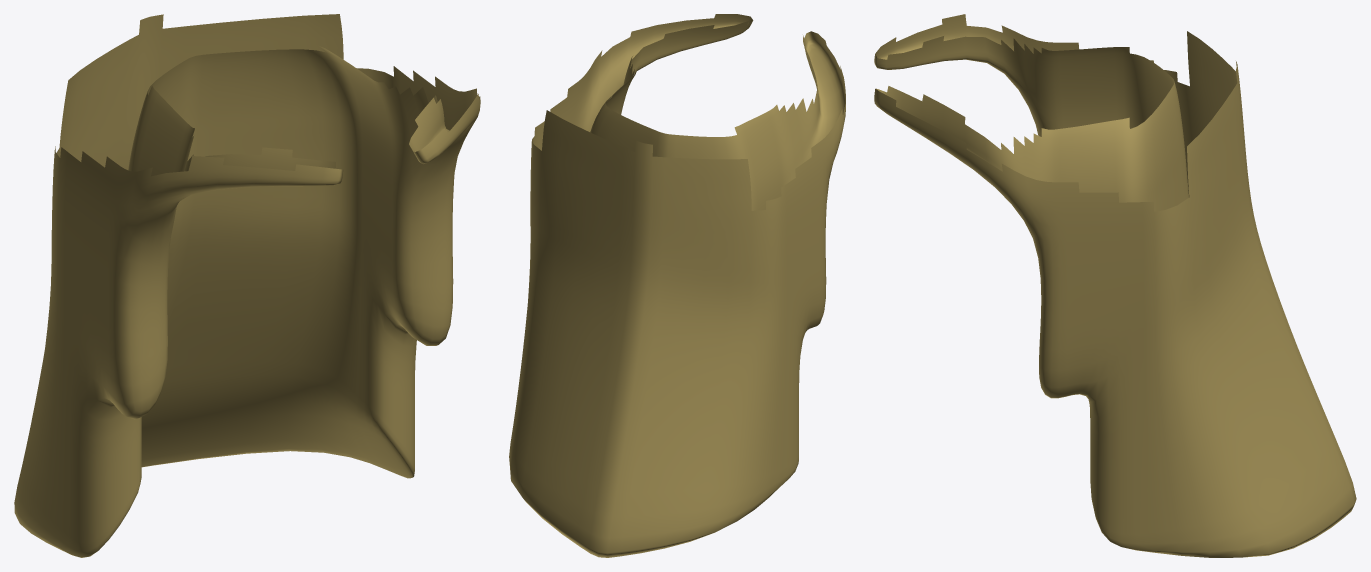
File: Female_Hair2.fbx
The picture shows the model from 3 angles, left to right: view 1: azimuth 30°, elevation 25°; view 2: azimuth 150°, elevation 25°; view 3: azimuth 270°, elevation 25°; orthographic projection. The views are drawn at different scales.
Parts seen in each view (by area): view 1: Female_HatVer_Hair_Long_Smooth; view 2: Female_HatVer_Hair_Long_Smooth; view 3: Female_HatVer_Hair_Long_Smooth.
Part boxes in pixels (x1=…): Female_HatVer_Hair_Long_Smooth: x1=14, y1=14, x2=480, y2=557; Female_HatVer_Hair_Long_Smooth: x1=509, y1=14, x2=845, y2=557; Female_HatVer_Hair_Long_Smooth: x1=874, y1=14, x2=1356, y2=557.
Size of the model in its own units: 1.6 by 2.36 by 2.28.
